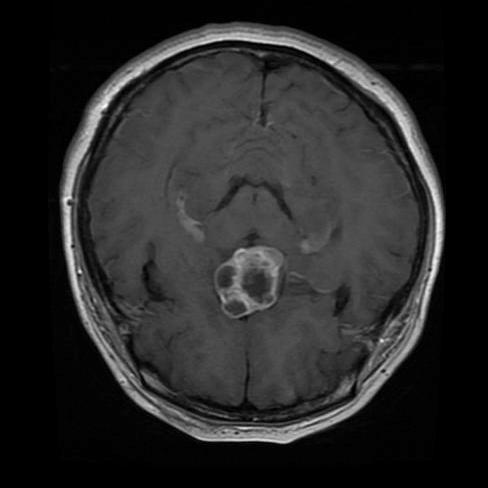Tumour-Pituitary: (214, 245, 287, 321)
